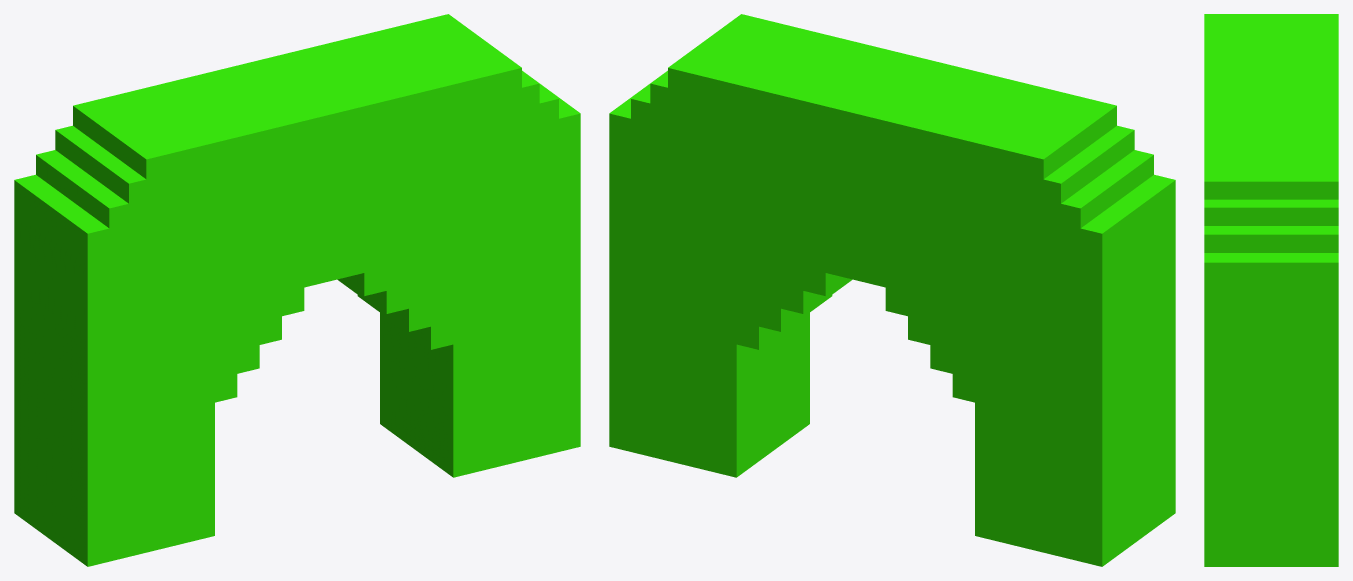
Rendered from Muro.glb.
3 views of the same model, side by side, from view 1: azimuth 30°, elevation 25°; view 2: azimuth 150°, elevation 25°; view 3: azimuth 270°, elevation 25° (orthographic). The views are drawn at different scales.
Visible parts, largest first — view 1: Shield002_02 - Default_0; view 2: Shield002_02 - Default_0; view 3: Shield002_02 - Default_0.
Part boxes in pixels (box(x1,y1,x2,y2)): Shield002_02 - Default_0: box(14, 14, 580, 566); Shield002_02 - Default_0: box(609, 14, 1175, 566); Shield002_02 - Default_0: box(1204, 14, 1338, 566).
Bounding box in the file's own units: 77.42 × 59 × 20.
Materials: 1 (1 with a texture image).
